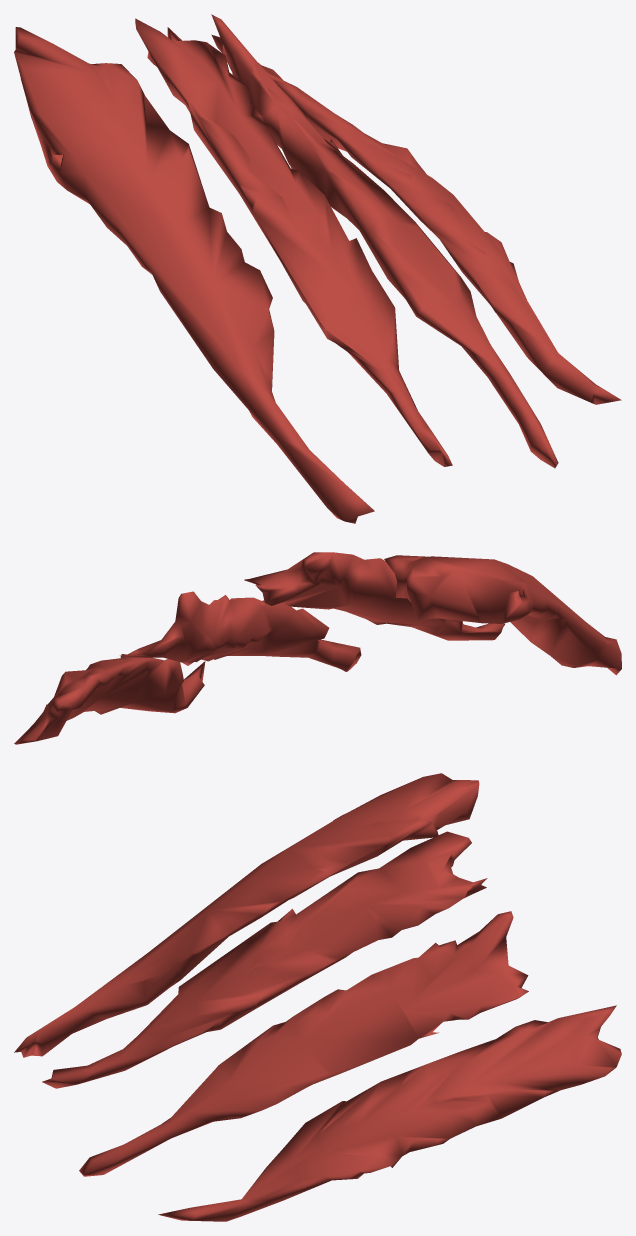
The model's file is musculos-dorsal-interossei-muscles-of-foot-l.glb.
3 views of the same model, one above another, from view 1: azimuth 30°, elevation 25°; view 2: azimuth 150°, elevation 25°; view 3: azimuth 270°, elevation 25° (orthographic). The views are drawn at different scales.
Visible parts, largest first — view 1: Dorsal interossei muscles of foot.l; view 2: Dorsal interossei muscles of foot.l; view 3: Dorsal interossei muscles of foot.l.
Boxes of the visible parts, bbox=[...] form: Dorsal interossei muscles of foot.l: bbox=[14, 14, 621, 523]; Dorsal interossei muscles of foot.l: bbox=[14, 552, 621, 744]; Dorsal interossei muscles of foot.l: bbox=[14, 773, 621, 1221].
Bounding box in the file's own units: 0.0513 × 0.0369 × 0.072.
